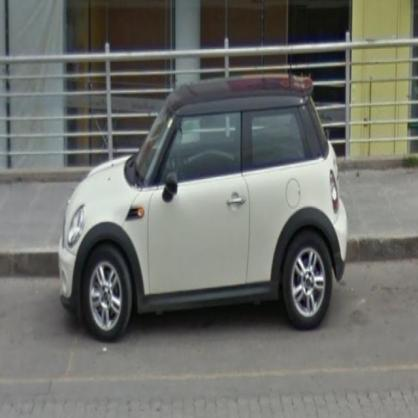car: (58, 73, 348, 347)
